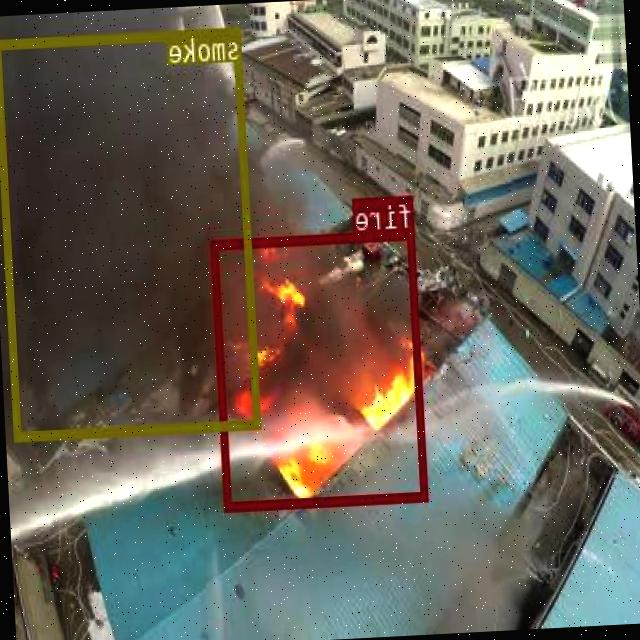fire: (212, 228, 430, 510)
smoke: (0, 27, 262, 439)
